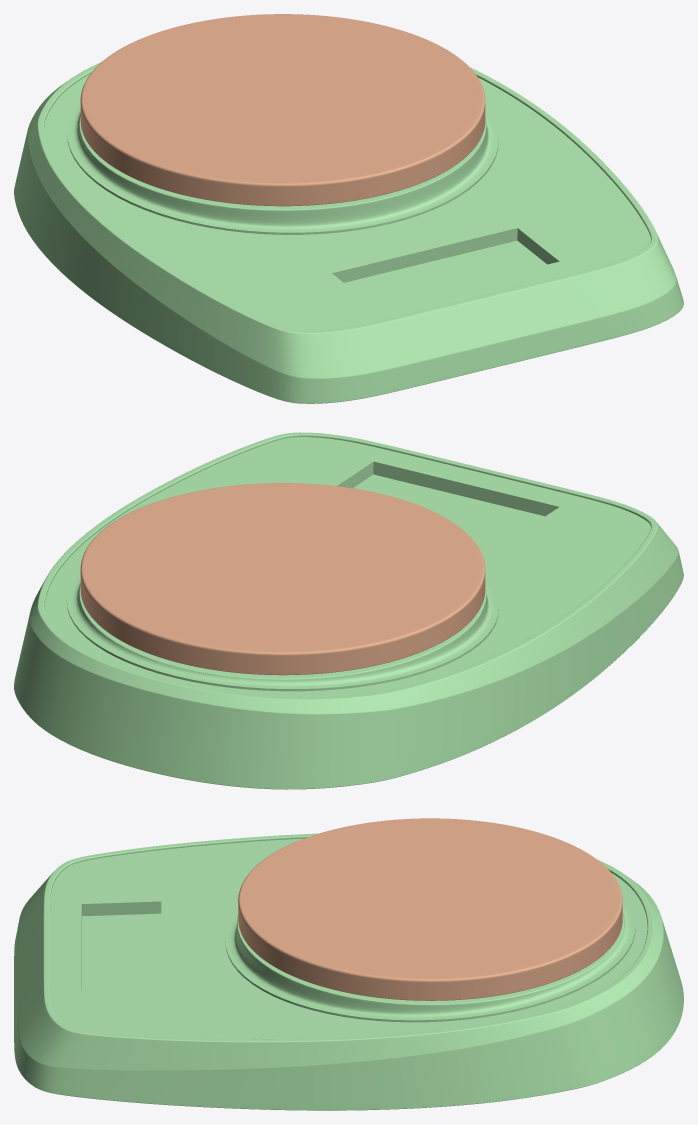
The model's file is HP_Balance_01.fbx.
3 views of the same model, one above another, from view 1: azimuth 30°, elevation 25°; view 2: azimuth 150°, elevation 25°; view 3: azimuth 270°, elevation 25° (orthographic). The views are drawn at different scales.
Parts seen in each view (by area): view 1: polySurface13; view 2: polySurface13; view 3: polySurface13.
Boxes of the visible parts, left/top/right/bottom form: polySurface13: left=14, top=14, right=683, bottom=403; polySurface13: left=14, top=432, right=683, bottom=789; polySurface13: left=14, top=818, right=683, bottom=1110.
Bounding box in the file's own units: 16.81 × 3.85 × 21.5.
